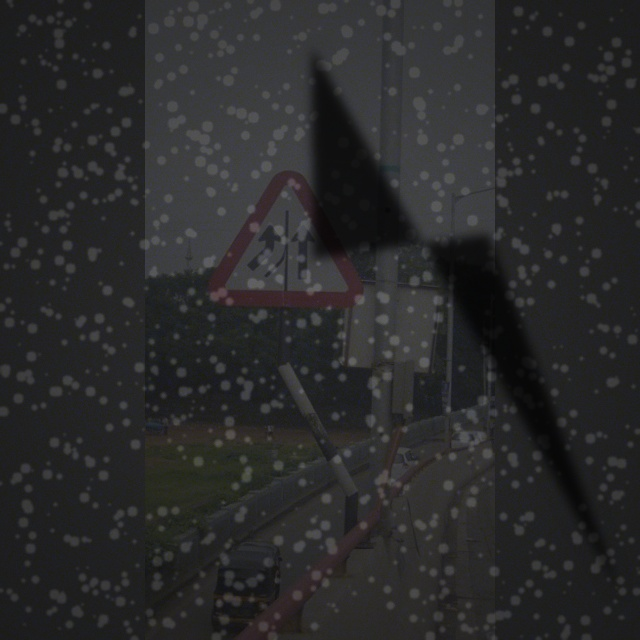Merge_Traffic_Ahead: (209, 164, 368, 318)
